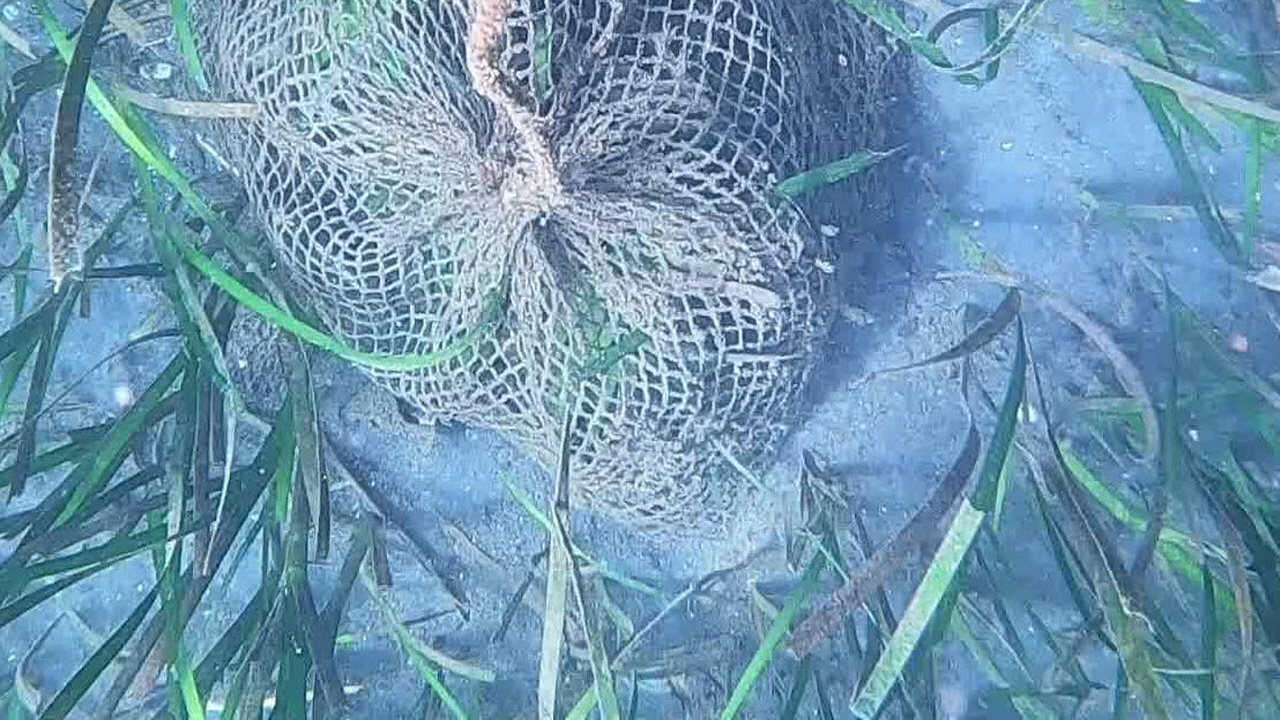fish net: (169, 0, 903, 541)
